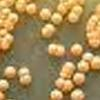yellow: (85, 13, 100, 50), (68, 86, 86, 100), (49, 10, 63, 28), (39, 26, 54, 42), (71, 70, 86, 84), (44, 43, 58, 58), (3, 65, 17, 80), (16, 66, 32, 79), (89, 54, 100, 72), (69, 42, 83, 56), (7, 12, 20, 26), (38, 7, 50, 22), (55, 43, 66, 59), (14, 2, 27, 15), (76, 60, 90, 72), (62, 77, 74, 91), (18, 74, 32, 86), (48, 89, 63, 100), (0, 77, 10, 93), (53, 77, 66, 89), (56, 4, 68, 17), (66, 13, 80, 24), (0, 38, 11, 52), (44, 24, 56, 36), (71, 5, 84, 16), (62, 61, 76, 71), (26, 2, 36, 16), (81, 52, 94, 62), (67, 0, 80, 9), (58, 72, 72, 80), (60, 66, 74, 74), (4, 23, 15, 32), (0, 6, 12, 14), (63, 1, 72, 11), (93, 3, 100, 15), (4, 0, 16, 7), (3, 31, 13, 39), (8, 35, 15, 46), (0, 0, 8, 9), (16, 0, 28, 6), (0, 90, 7, 100), (0, 28, 8, 36), (0, 13, 8, 20), (77, 0, 86, 6), (61, 88, 70, 94), (0, 36, 5, 46), (0, 19, 8, 25), (74, 82, 83, 87), (24, 0, 33, 4)
